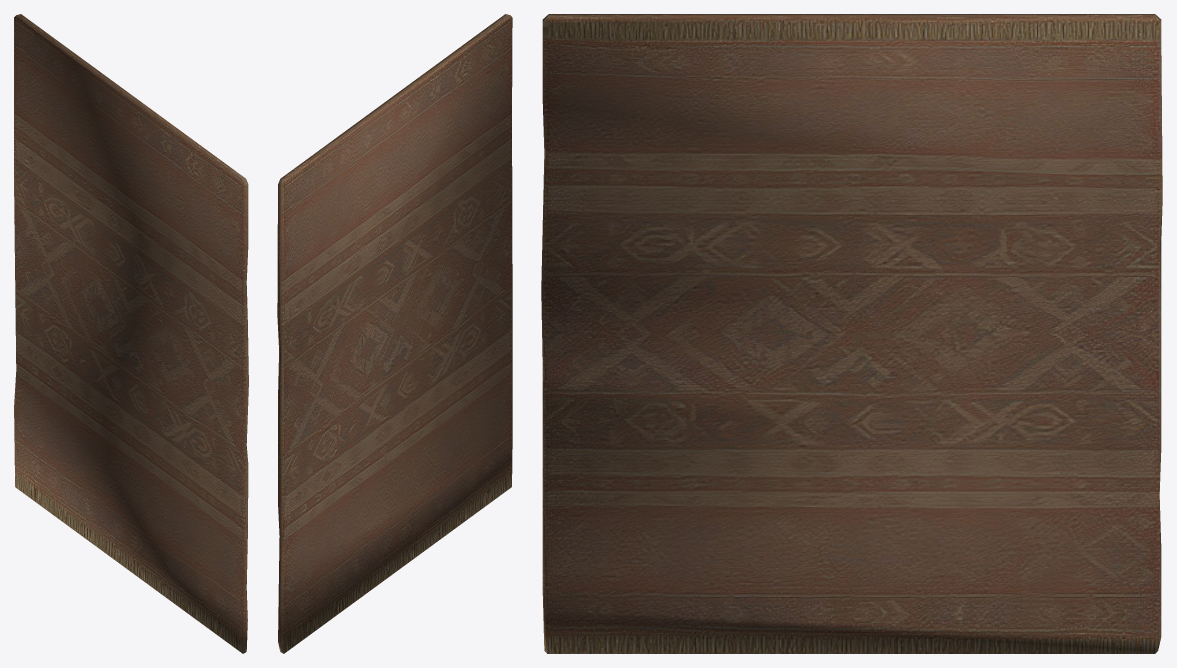
The model's file is Picnic Mat 2nd version.fbx.
The picture shows the model from 3 angles, left to right: view 1: azimuth 30°, elevation 25°; view 2: azimuth 150°, elevation 25°; view 3: azimuth 270°, elevation 25°; orthographic projection. The views are drawn at different scales.
Visible parts, largest first — view 1: tripo_node_c8c0966f-899d-4e36-8d2e-c793c775d682; view 2: tripo_node_c8c0966f-899d-4e36-8d2e-c793c775d682; view 3: tripo_node_c8c0966f-899d-4e36-8d2e-c793c775d682.
Boxes of the visible parts, box(x1,y1,x2,y2) form: tripo_node_c8c0966f-899d-4e36-8d2e-c793c775d682: box(14, 14, 248, 653); tripo_node_c8c0966f-899d-4e36-8d2e-c793c775d682: box(277, 14, 512, 653); tripo_node_c8c0966f-899d-4e36-8d2e-c793c775d682: box(541, 14, 1162, 653).
Size of the model in its own units: 0.9766 by 91.21 by 80.66.
Materials: 1 (1 with a texture image).
